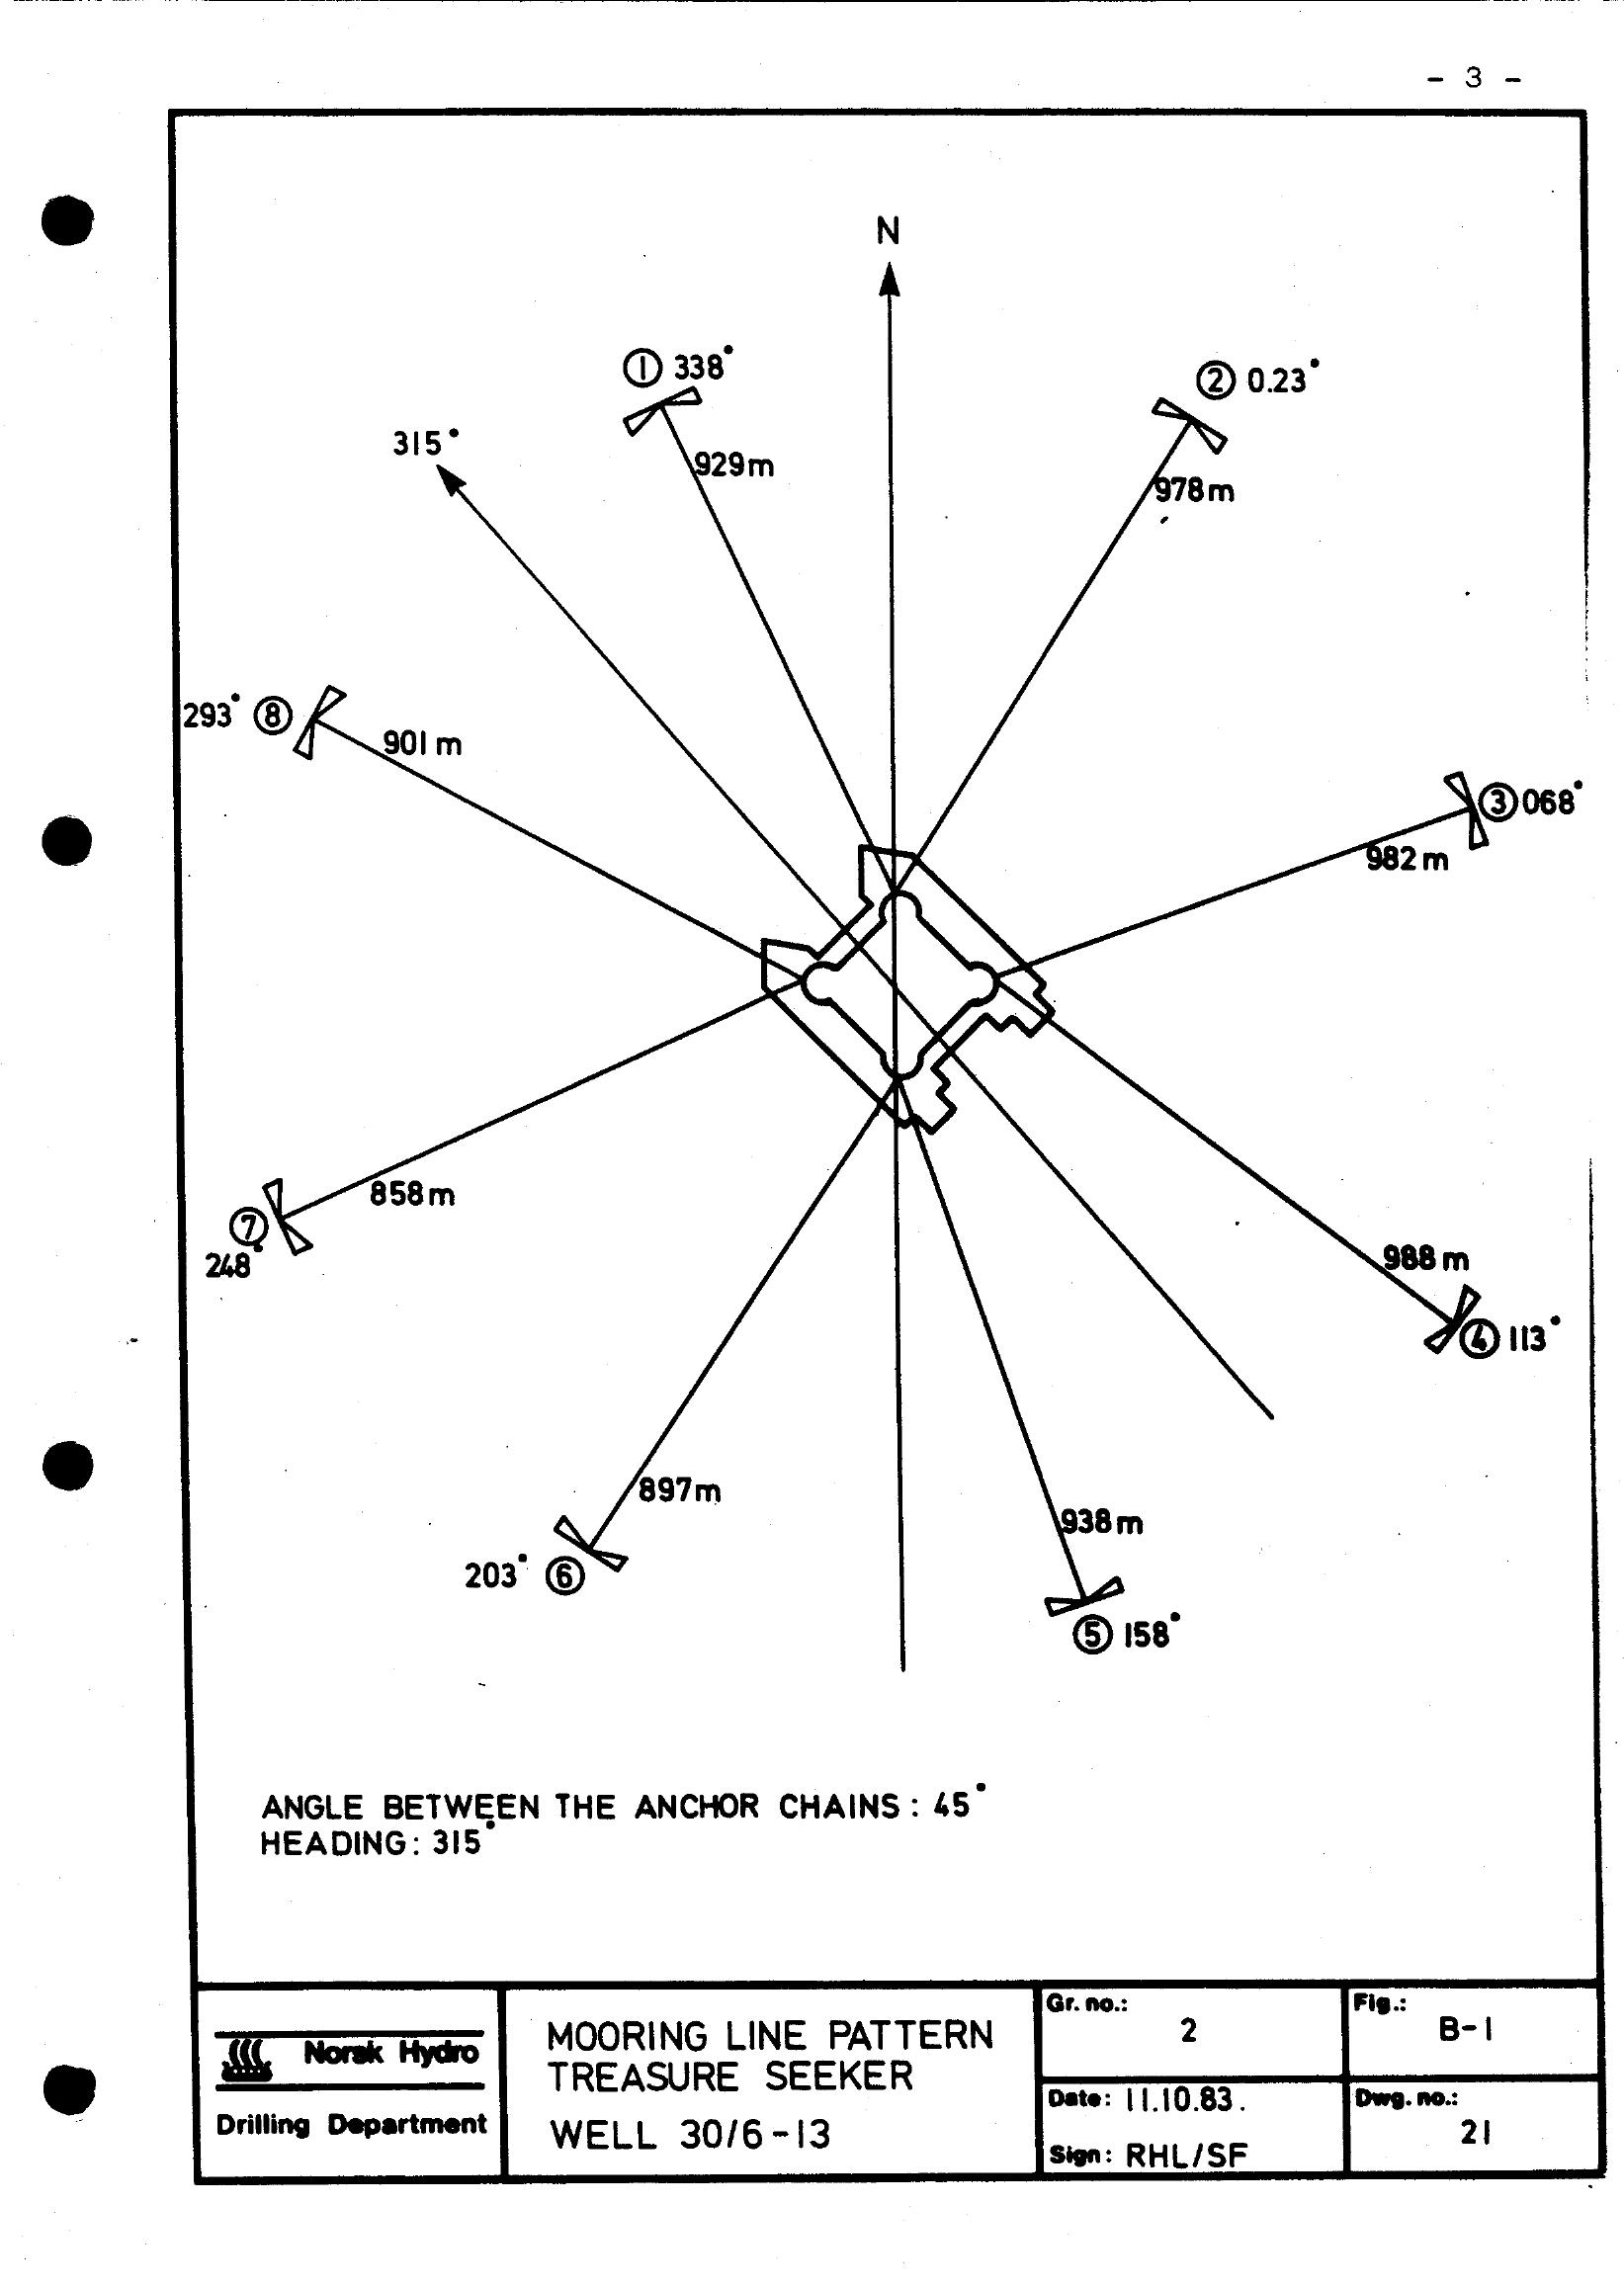graph: (125, 93, 1624, 2225)
